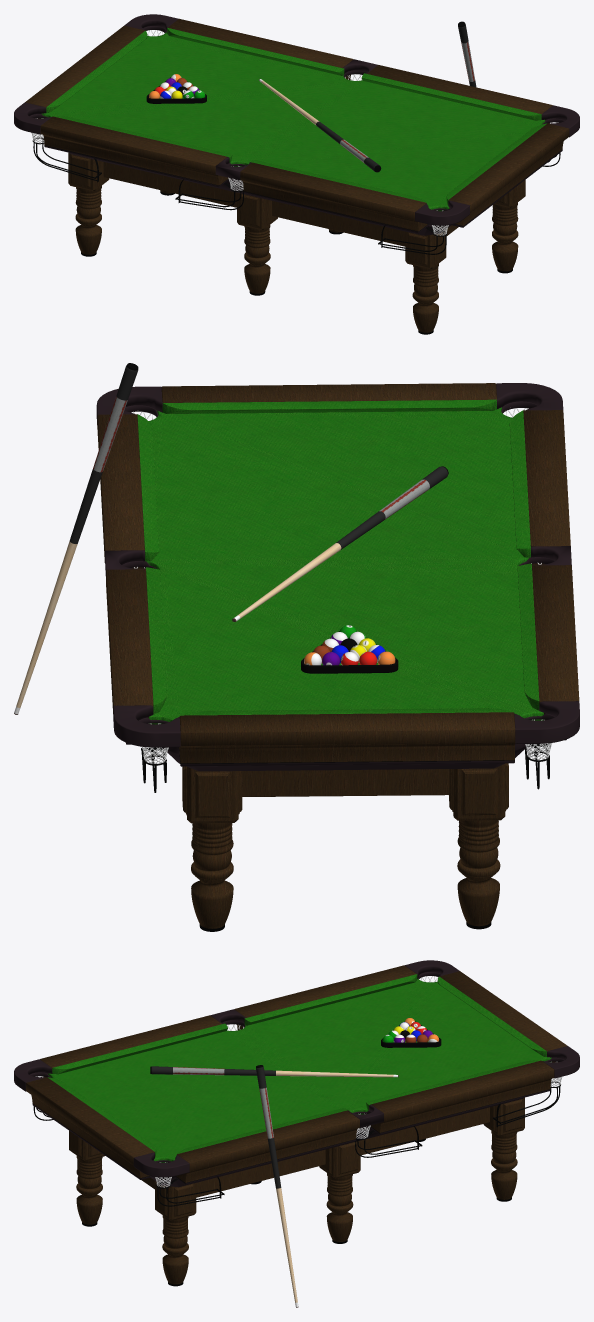
File: pool_table_with_ball.glb
3 views of the same model, one above another, from view 1: azimuth 30°, elevation 25°; view 2: azimuth 150°, elevation 25°; view 3: azimuth 270°, elevation 25° (orthographic). The views are drawn at different scales.
Visible parts, largest first — view 1: table_16, Pool Cue_17, Pool Cue.001_18; view 2: table_16, Pool Cue.001_18, Pool Cue_17, Pool balls set.001_1; view 3: table_16, Pool Cue.001_18, Pool Cue_17.
Boxes of the visible parts, x1=… form: table_16: x1=14, y1=14, x2=579, y2=334; Pool Cue_17: x1=259, y1=79, x2=381, y2=172; Pool Cue.001_18: x1=458, y1=21, x2=476, y2=87; table_16: x1=96, y1=383, x2=579, y2=931; Pool Cue.001_18: x1=14, y1=363, x2=138, y2=714; Pool Cue_17: x1=232, y1=466, x2=448, y2=621; Pool balls set.001_1: x1=301, y1=631, x2=398, y2=673; table_16: x1=14, y1=960, x2=579, y2=1286; Pool Cue.001_18: x1=256, y1=1065, x2=298, y2=1307; Pool Cue_17: x1=150, y1=1066, x2=398, y2=1077.
Bounding box in the file's own units: 2.51 × 1.22 × 2.89.
Materials: 13 (6 with a texture image).
